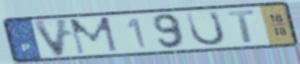1: (126, 17, 148, 49)
9: (151, 12, 187, 50)
M: (67, 15, 120, 56)
T: (226, 8, 257, 44)
U: (184, 10, 228, 48)
V: (30, 17, 72, 59)
